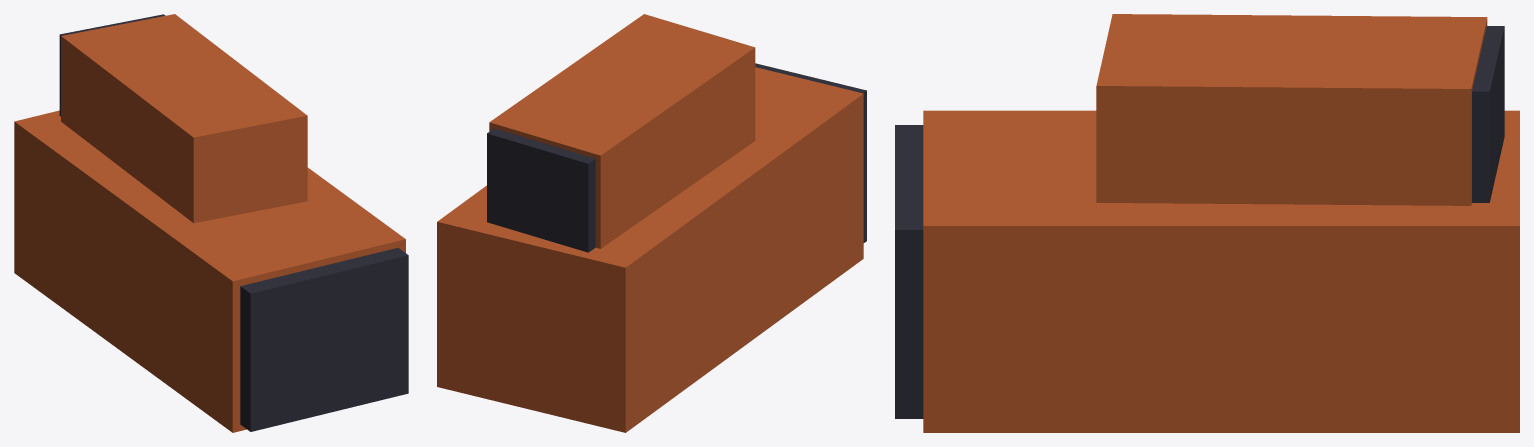
The model's file is CableBox1.fbx.
The picture shows the model from 3 angles, left to right: view 1: azimuth 30°, elevation 25°; view 2: azimuth 150°, elevation 25°; view 3: azimuth 270°, elevation 25°; orthographic projection. The views are drawn at different scales.
Parts seen in each view (by area): view 1: CableBox1, pCube144; view 2: CableBox1, pCube144; view 3: CableBox1, pCube144.
Part boxes in pixels (<box>): CableBox1: <box>14,110,408,432</box>; pCube144: <box>59,14,307,223</box>; CableBox1: <box>437,63,866,432</box>; pCube144: <box>487,14,755,252</box>; CableBox1: <box>895,110,1519,432</box>; pCube144: <box>1096,14,1504,205</box>.
Bounding box in the file's own units: 1 × 1.31 × 2.29.
